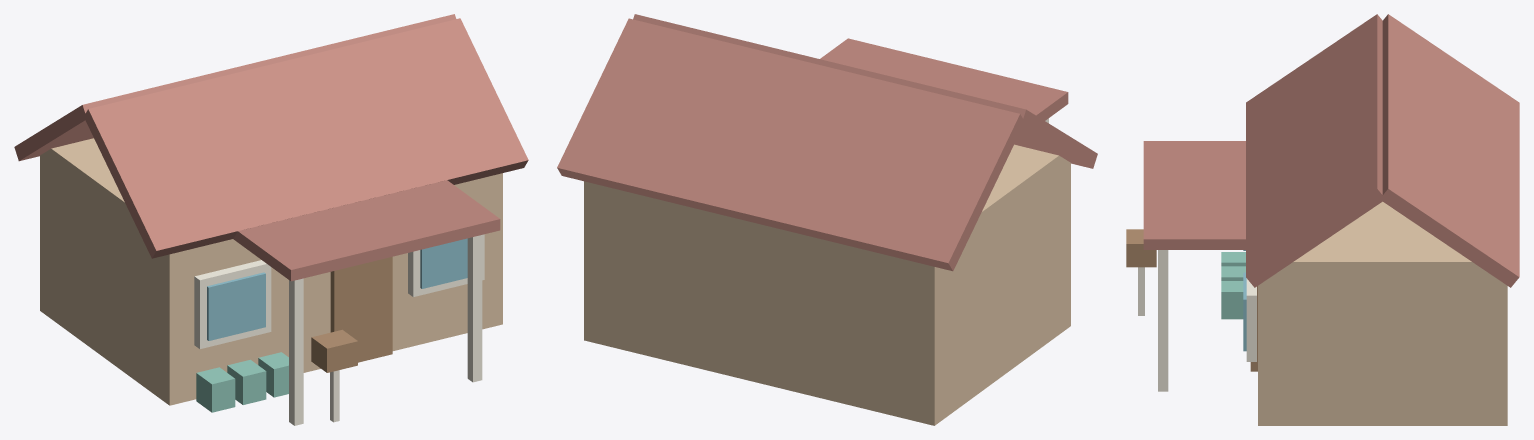
File: home-08.glb
3 views of the same model, side by side, from view 1: azimuth 30°, elevation 25°; view 2: azimuth 150°, elevation 25°; view 3: azimuth 270°, elevation 25° (orthographic). The views are drawn at different scales.
Visible parts, largest first — view 1: pitched roof.002, individual walls.006, letterbox post.006, front door.008, window pane.004, flower planter.006; view 2: individual walls.006, pitched roof.002; view 3: pitched roof.002, individual walls.006, letterbox post.006, flower planter.006, front door.008.
Part boxes in pixels (box(x1,y1,x2,y2)): pitched roof.002: box(14, 14, 528, 281); individual walls.006: box(40, 138, 502, 405); letterbox post.006: box(194, 234, 484, 425); front door.008: box(311, 256, 392, 372); window pane.004: box(207, 238, 467, 340); flower planter.006: box(196, 352, 288, 412); individual walls.006: box(584, 144, 1070, 425); pitched roof.002: box(557, 14, 1097, 271); pitched roof.002: box(1143, 14, 1519, 287); individual walls.006: box(1258, 201, 1507, 425); letterbox post.006: box(1138, 250, 1256, 391); flower planter.006: box(1221, 252, 1245, 319); front door.008: box(1126, 229, 1257, 371).
Bounding box in the file's own units: 4.8 × 3.16 × 4.56.
